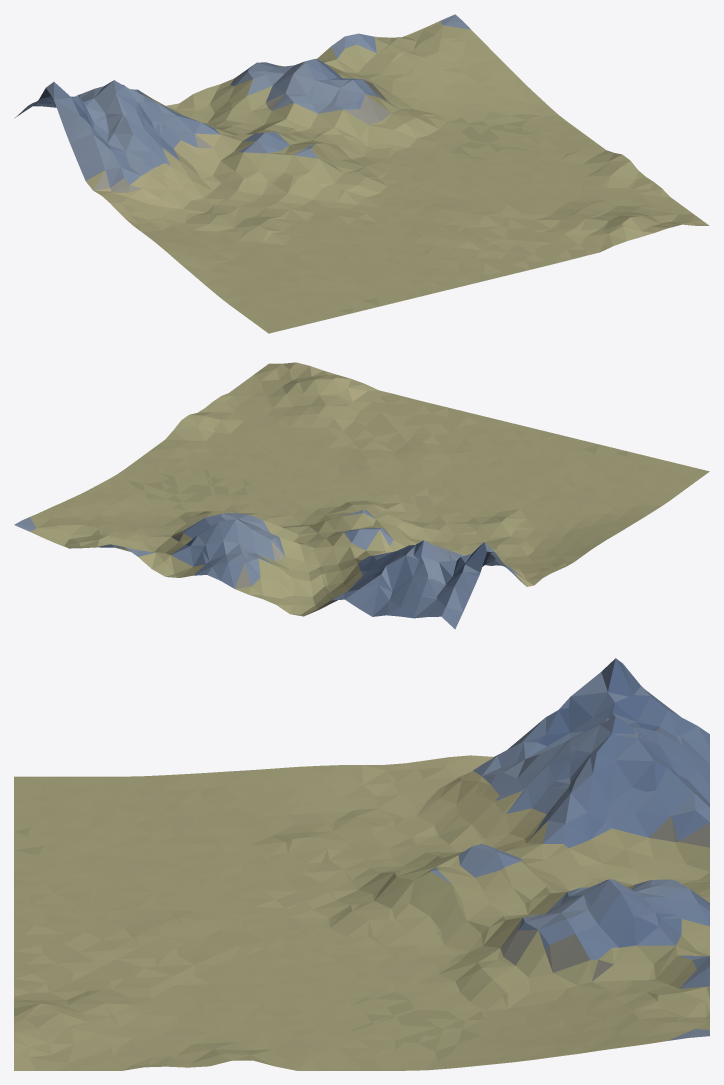
The model's file is Ground_1_-3.glb.
3 renders of one model, top to bottom at view 1: azimuth 30°, elevation 25°; view 2: azimuth 150°, elevation 25°; view 3: azimuth 270°, elevation 25°, orthographic. The views are drawn at different scales.
Parts seen in each view (by area): view 1: Ground_1_-3; view 2: Ground_1_-3; view 3: Ground_1_-3.
Boxes of the visible parts, left/top/right/bottom form: Ground_1_-3: left=14, top=14, right=709, bottom=333; Ground_1_-3: left=14, top=362, right=709, bottom=629; Ground_1_-3: left=14, top=658, right=709, bottom=1070.
Size of the model in its own units: 768 by 149 by 768.
